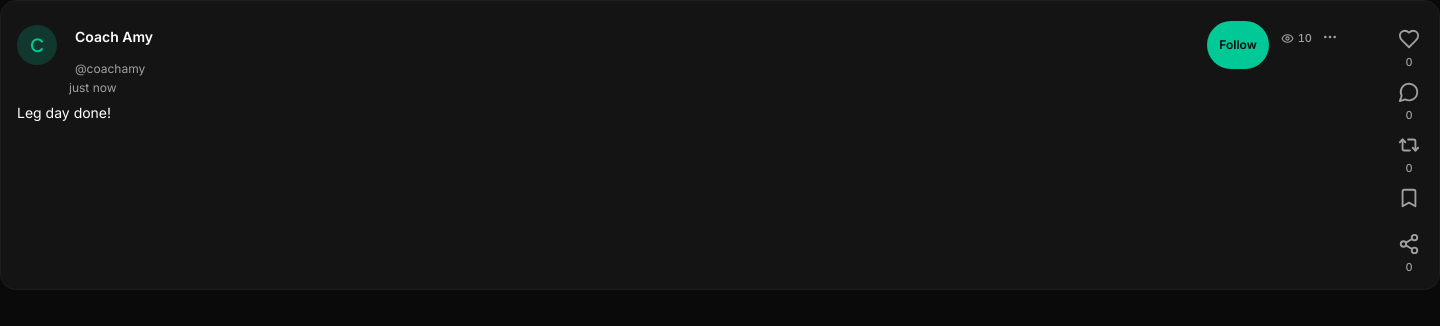
Test case: PostCard three-dots menu › closes the menu on Escape
Click the button named "More options" at [1342, 37], box [1318,13,1366,61]
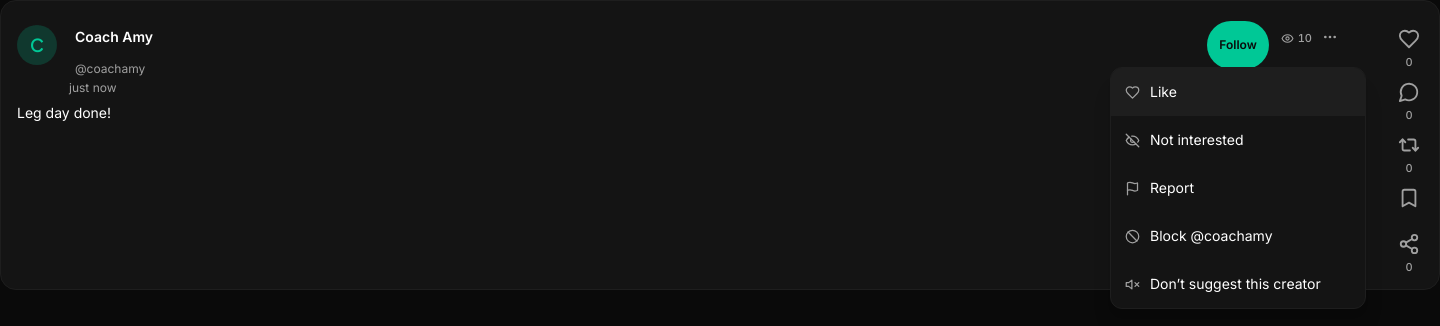
Expected: the menu is shown, [1110,67,1366,309]
Press Escape
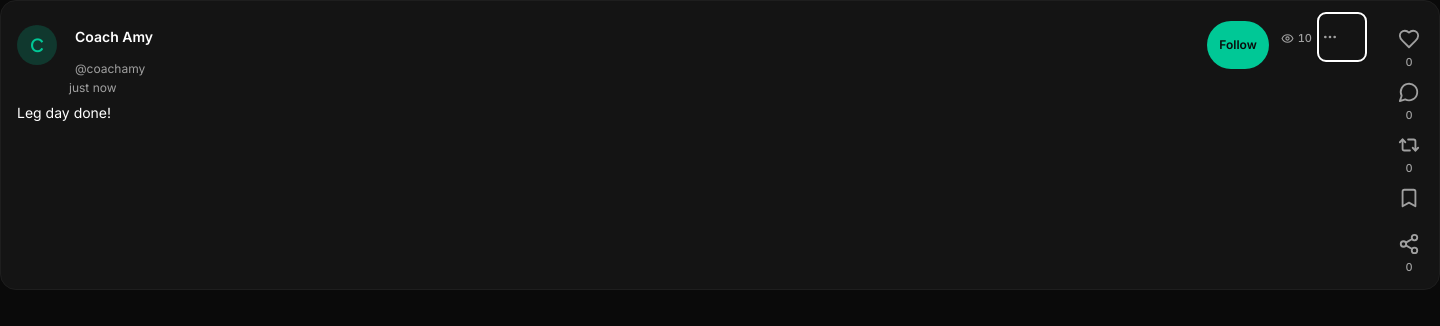
Expected: the menu is gone
